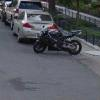Motorcycle: (30, 20, 85, 62)
